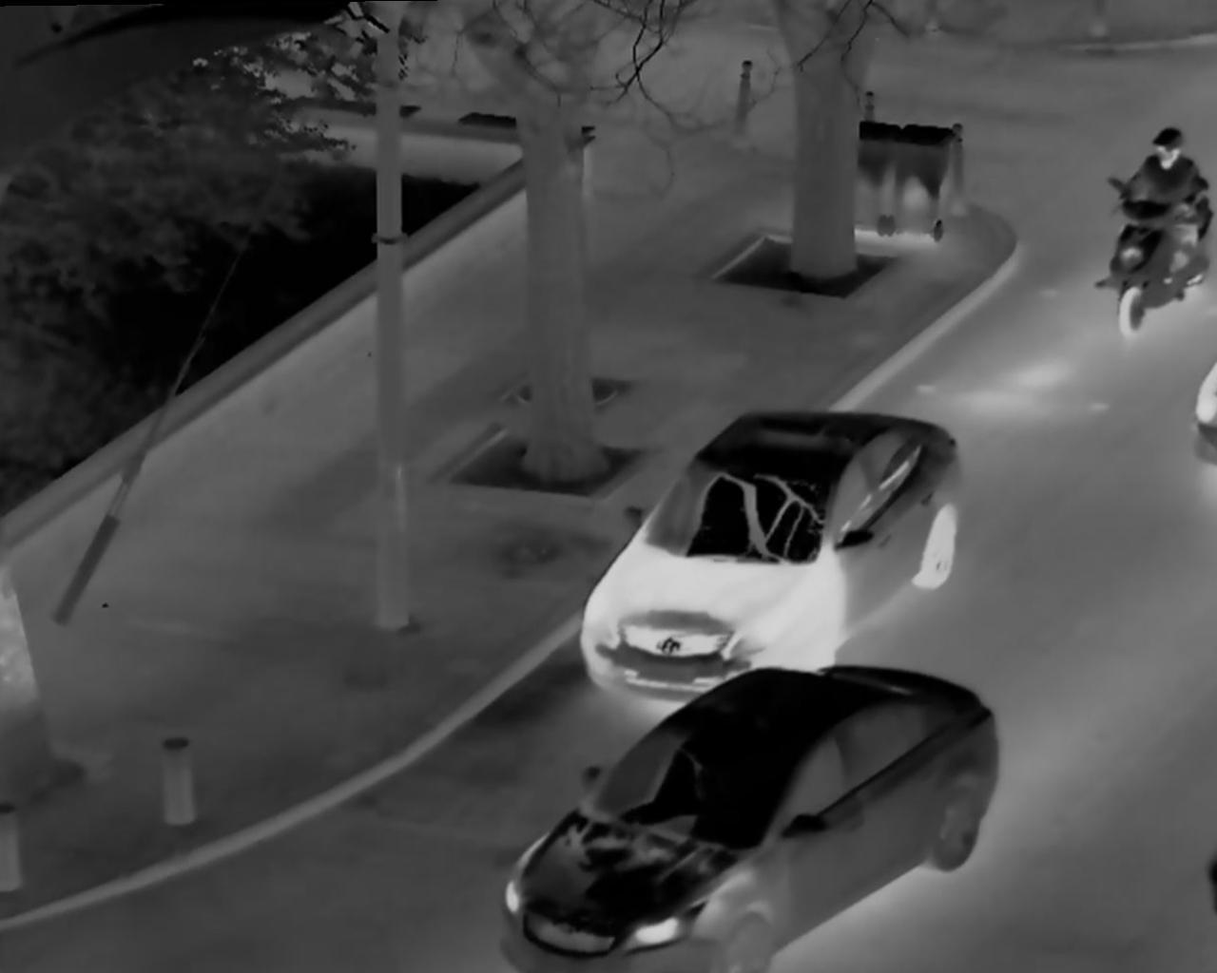person: (1113, 106, 1205, 326)
